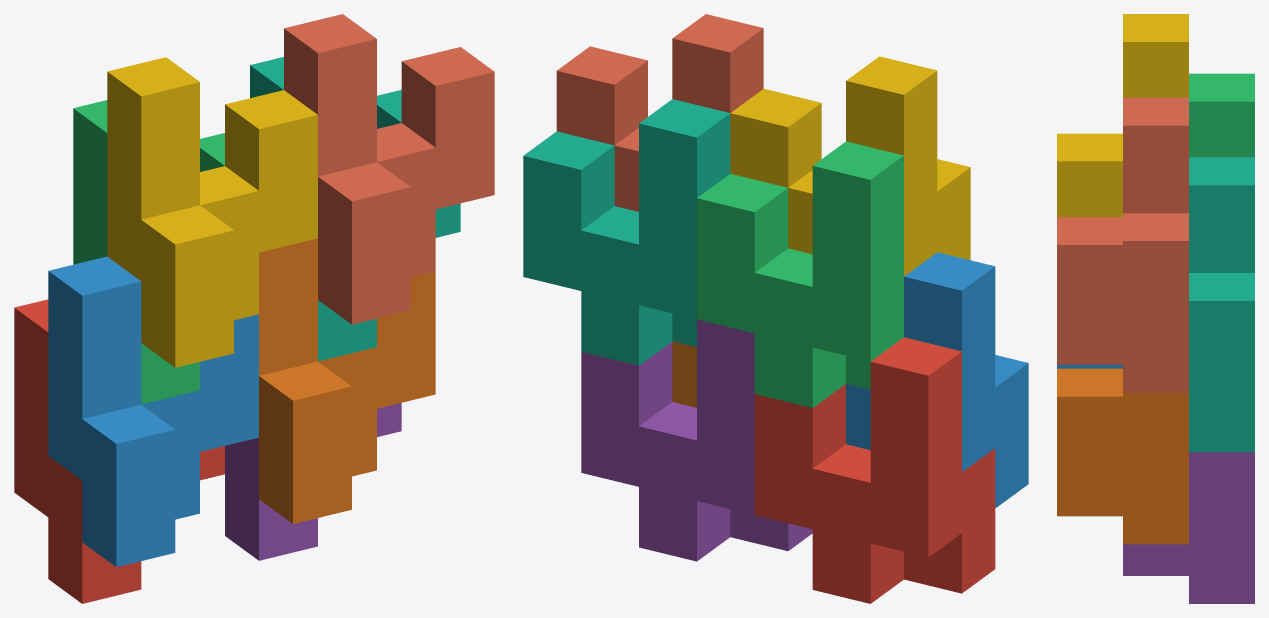
File: tiling.obj
3 views of the same model, side by side, from view 1: azimuth 30°, elevation 25°; view 2: azimuth 150°, elevation 25°; view 3: azimuth 270°, elevation 25° (orthographic). The views are drawn at different scales.
Parts seen in each view (by area): view 1: copy_1_domain_4, copy_1_domain_8, copy_1_domain_2, copy_1_domain_6, copy_1_domain_1, copy_1_domain_3, copy_1_domain_5, copy_1_domain_7; view 2: copy_1_domain_1, copy_1_domain_3, copy_1_domain_7, copy_1_domain_5, copy_1_domain_4, copy_1_domain_2, copy_1_domain_8, copy_1_domain_6; view 3: copy_1_domain_8, copy_1_domain_6, copy_1_domain_7, copy_1_domain_5, copy_1_domain_4, copy_1_domain_3, copy_1_domain_2.
Part boxes in pixels (bbox=[...]): copy_1_domain_4: bbox=[107, 57, 317, 367]; copy_1_domain_8: bbox=[284, 14, 494, 324]; copy_1_domain_2: bbox=[48, 256, 258, 566]; copy_1_domain_6: bbox=[259, 238, 435, 523]; copy_1_domain_1: bbox=[14, 299, 224, 603]; copy_1_domain_3: bbox=[73, 100, 224, 404]; copy_1_domain_5: bbox=[225, 403, 401, 560]; copy_1_domain_7: bbox=[250, 57, 460, 361]; copy_1_domain_1: bbox=[754, 337, 995, 603]; copy_1_domain_3: bbox=[697, 141, 903, 407]; copy_1_domain_7: bbox=[523, 99, 730, 365]; copy_1_domain_5: bbox=[581, 319, 812, 561]; copy_1_domain_4: bbox=[730, 56, 970, 276]; copy_1_domain_2: bbox=[846, 252, 1028, 508]; copy_1_domain_8: bbox=[556, 14, 763, 211]; copy_1_domain_6: bbox=[672, 341, 696, 407]; copy_1_domain_8: bbox=[1057, 97, 1188, 392]; copy_1_domain_6: bbox=[1057, 368, 1188, 544]; copy_1_domain_7: bbox=[1189, 157, 1254, 452]; copy_1_domain_5: bbox=[1123, 452, 1254, 603]; copy_1_domain_4: bbox=[1057, 14, 1188, 217]; copy_1_domain_3: bbox=[1189, 73, 1254, 157]; copy_1_domain_2: bbox=[1057, 364, 1122, 368].
Bounding box in the file's own units: 7 × 8 × 3.
